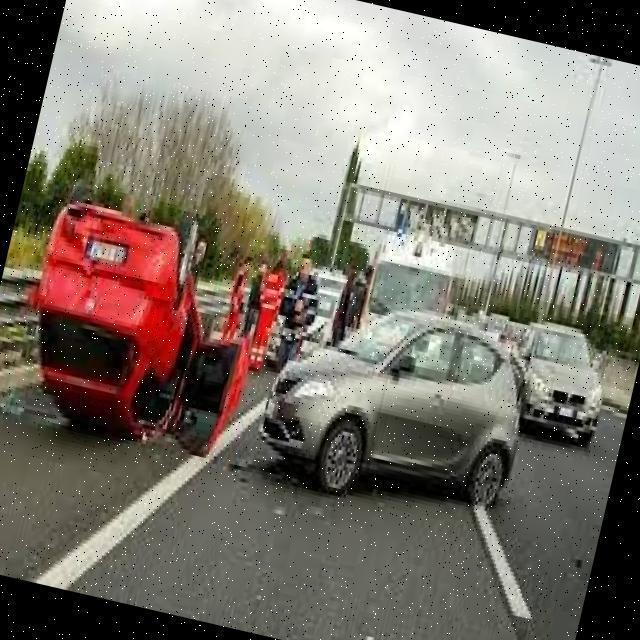accident: (0, 158, 292, 511)
